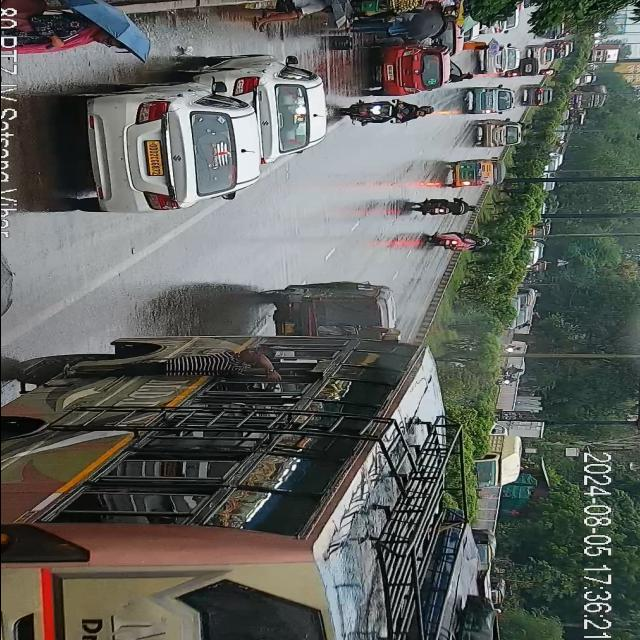2-wheelers: (337, 102, 437, 126), (427, 232, 491, 256), (415, 198, 481, 220)
auto: (265, 277, 396, 341), (448, 156, 508, 191)
bus: (69, 334, 485, 640)
car: (76, 80, 260, 212), (214, 59, 324, 154), (374, 43, 441, 95), (458, 85, 516, 116), (473, 42, 517, 80), (476, 120, 522, 150), (521, 86, 554, 108), (528, 45, 554, 72)
pedestrian: (29, 0, 146, 74), (350, 6, 454, 42), (250, 0, 340, 34)
